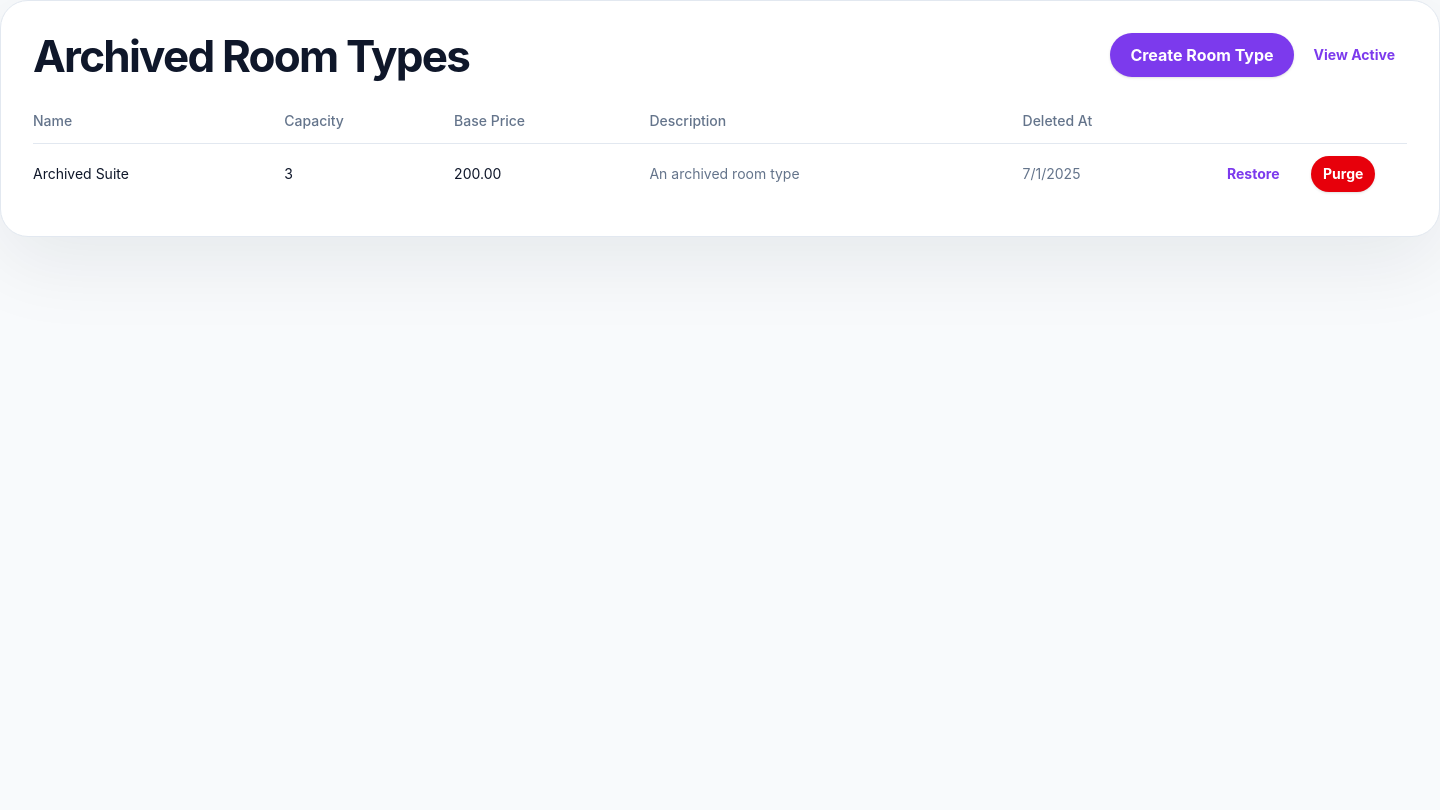
it: RoomTypesPage › purge flow › opens purge dialog when Purge is clicked
Click the button "Purge".
click(1343, 174)  # box left=1311, top=156, right=1375, bottom=192
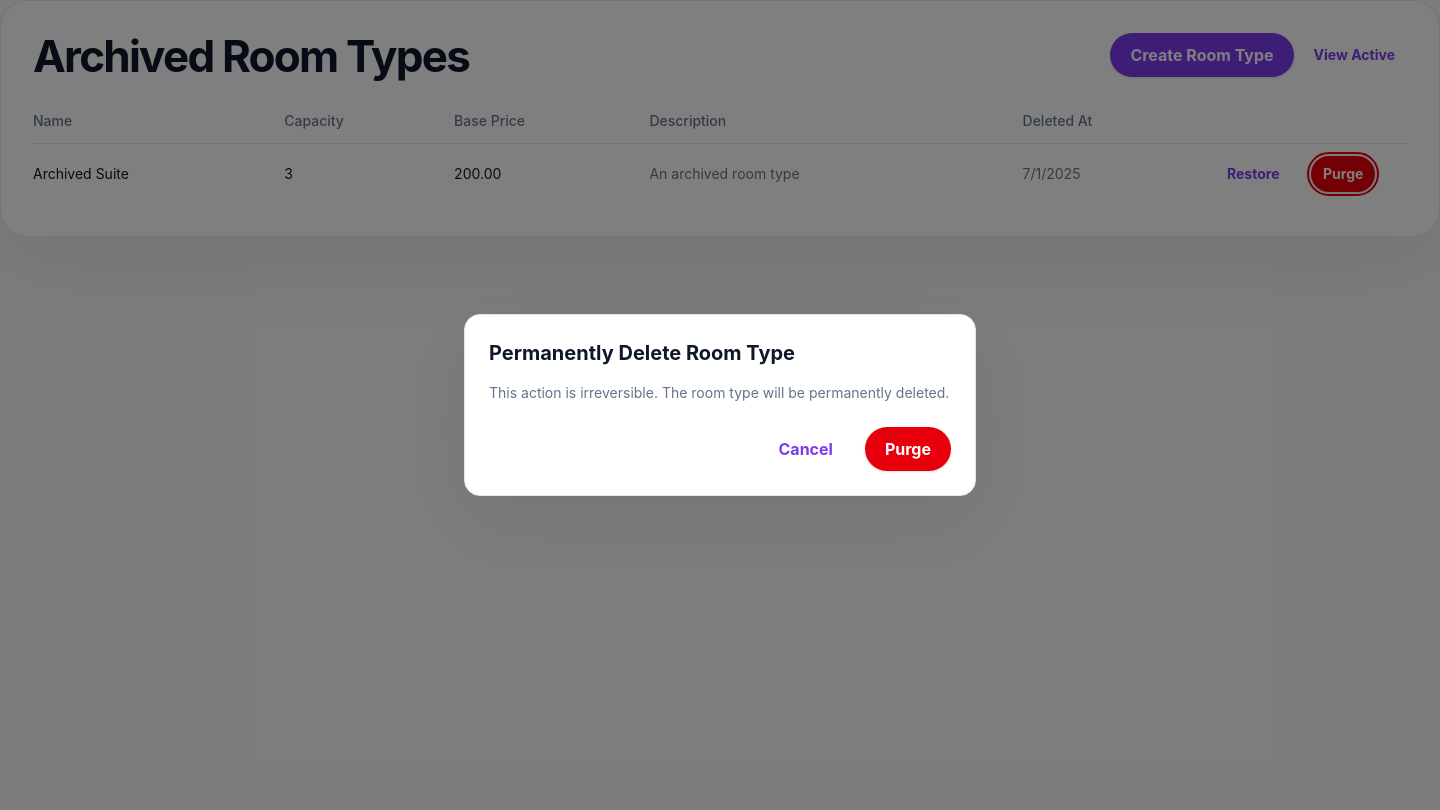
Now the dialog is shown, box left=464, top=314, right=976, bottom=496
Now the heading "Permanently Delete Room Type" is shown, box left=489, top=341, right=795, bottom=365
